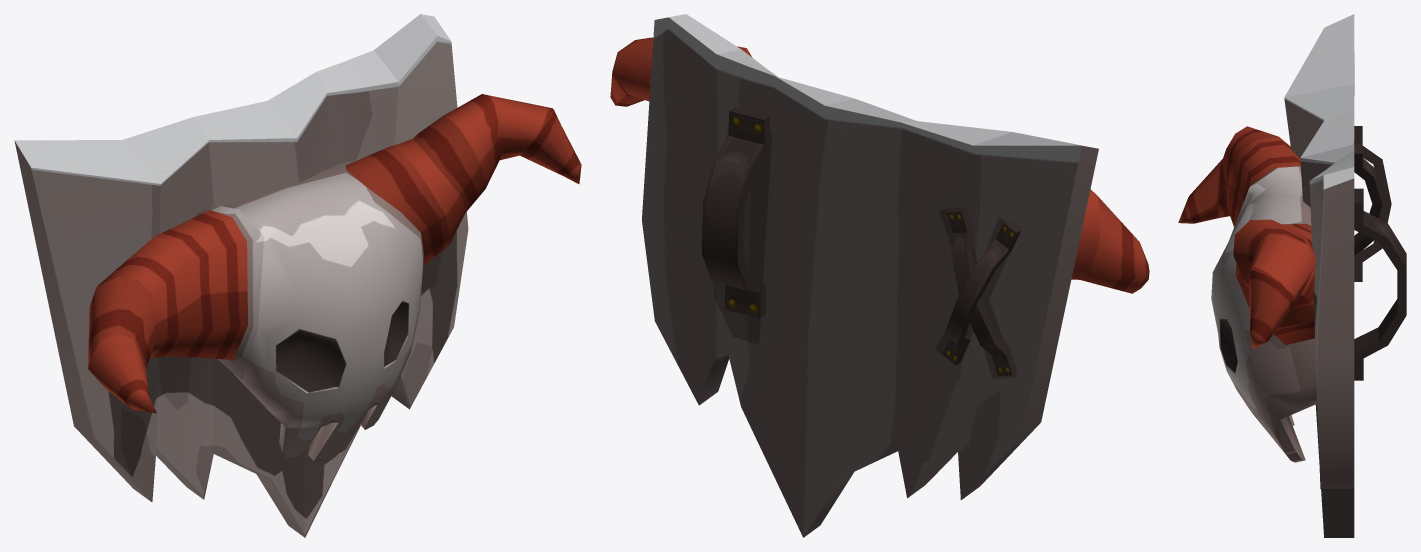
Rendered from Skull_05.FBX.
3 views of the same model, side by side, from view 1: azimuth 30°, elevation 25°; view 2: azimuth 150°, elevation 25°; view 3: azimuth 270°, elevation 25° (orthographic). The views are drawn at different scales.
Parts seen in each view (by area): view 1: Skull_05; view 2: Skull_05; view 3: Skull_05.
Boxes of the visible parts, <box> form: Skull_05: <box>14,14,581,537</box>; Skull_05: <box>610,14,1149,537</box>; Skull_05: <box>1178,14,1406,537</box>.
Size of the model in its own units: 65.85 by 58.72 by 28.38.
